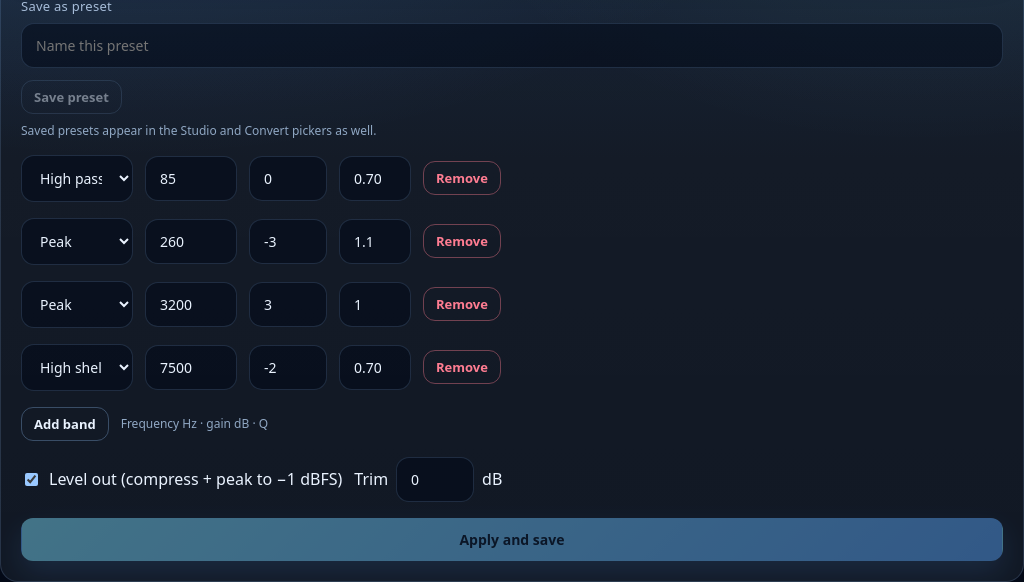
Test: Shape preset undo › gives back the hand-edited bands that choosing another preset dropped
The image size is (1024, 582).
(page scrolled)
Click the button "Add band" at (65,424), box [21,407,109,441]
(page scrolled)
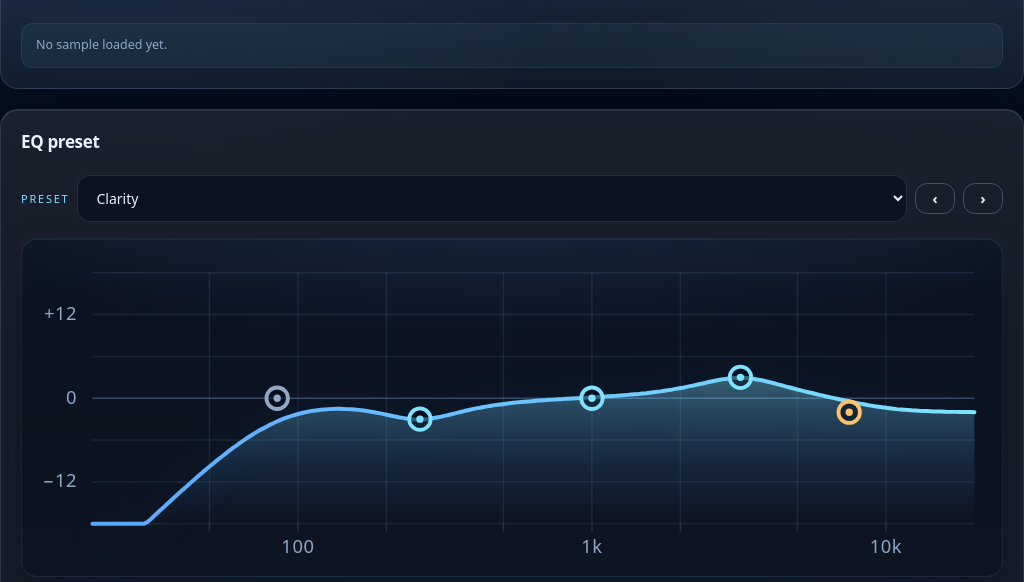
Select "Podcast" in the dropdown named "EQ preset" at (492,198), box [78,175,907,222]
(page scrolled)
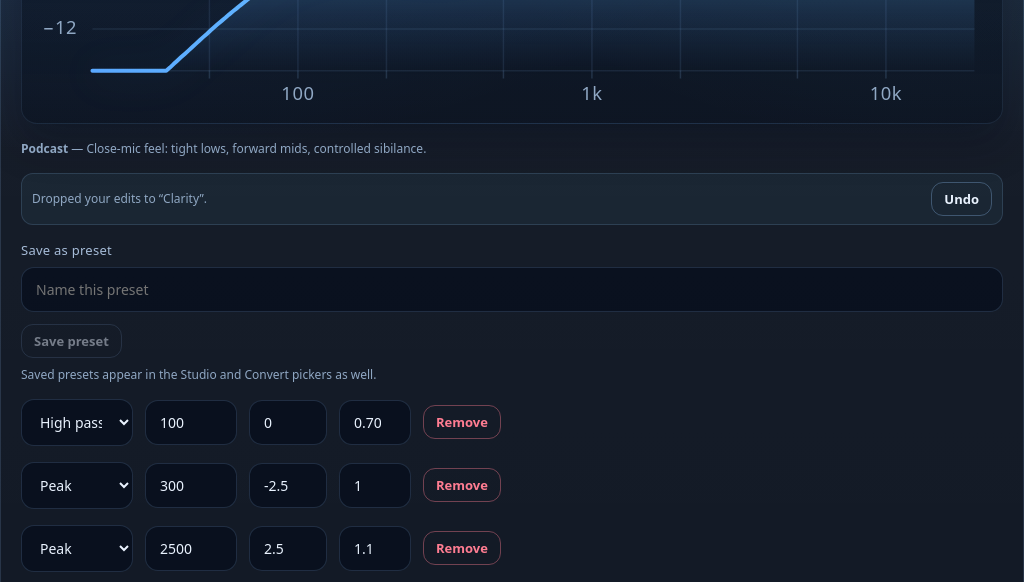
Result: the text "Dropped your edits to “Clarity”." is shown at [32,190,207,207]
Click the button "Undo" at (962,199), box [931,182,992,216]
(page scrolled)
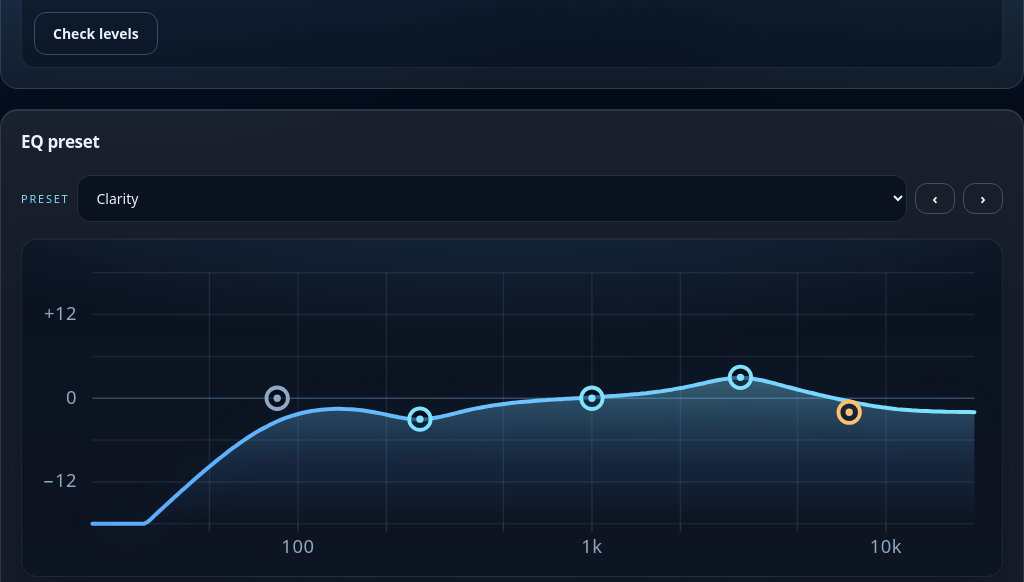
Result: the text "Dropped your edits" is gone
